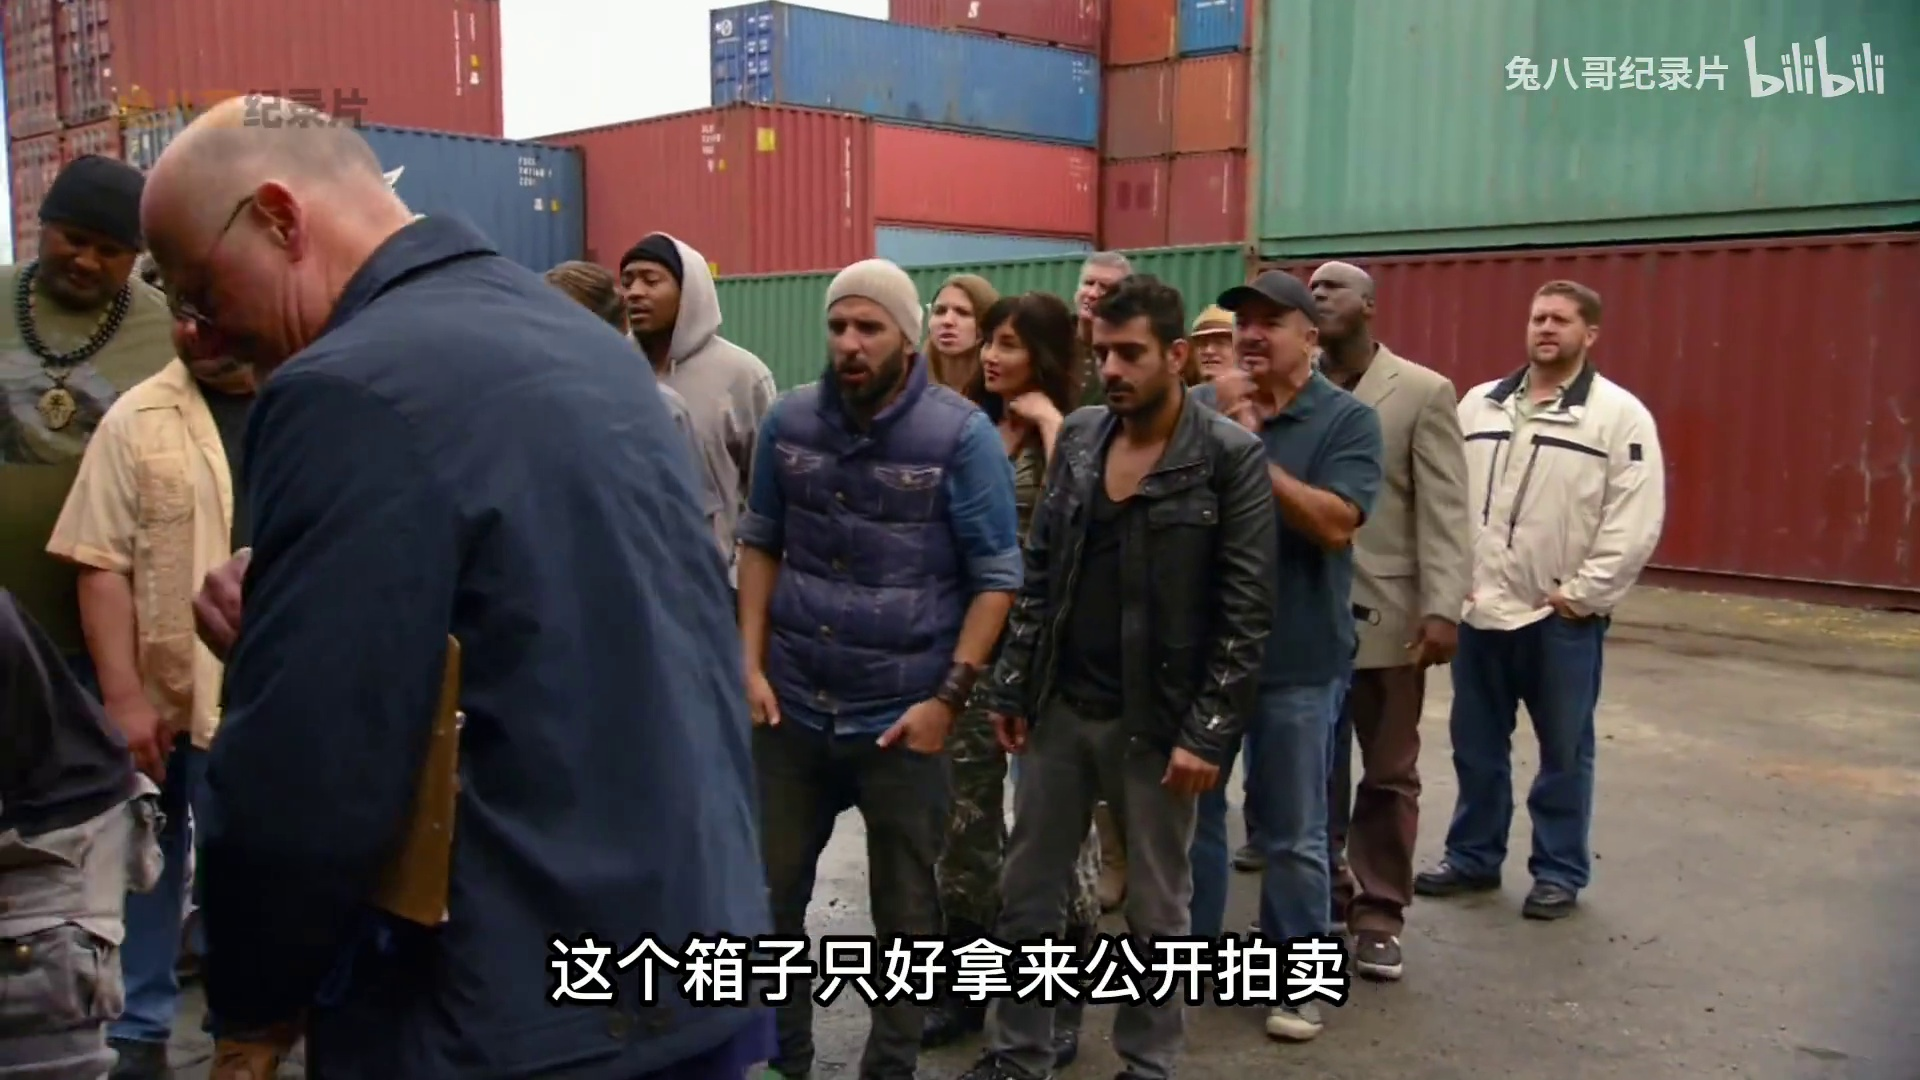container: (1260, 268, 1920, 595), (1262, 3, 1920, 218), (9, 142, 596, 259), (3, 5, 501, 135), (711, 8, 1110, 141), (551, 129, 878, 255), (862, 129, 1101, 222), (1171, 67, 1247, 153), (1098, 73, 1170, 163), (1103, 160, 1171, 246), (1174, 159, 1246, 228), (1184, 5, 1247, 45), (1112, 1, 1160, 40)
person: (93, 95, 801, 1077), (762, 258, 974, 1067), (1060, 265, 1237, 1079), (1294, 247, 1471, 987), (89, 294, 260, 1049), (1217, 274, 1378, 1024), (1491, 260, 1665, 917), (971, 303, 1071, 964), (548, 242, 703, 620), (620, 232, 767, 563), (6, 151, 162, 444), (1070, 238, 1155, 409), (911, 244, 984, 404), (1185, 303, 1266, 401)
